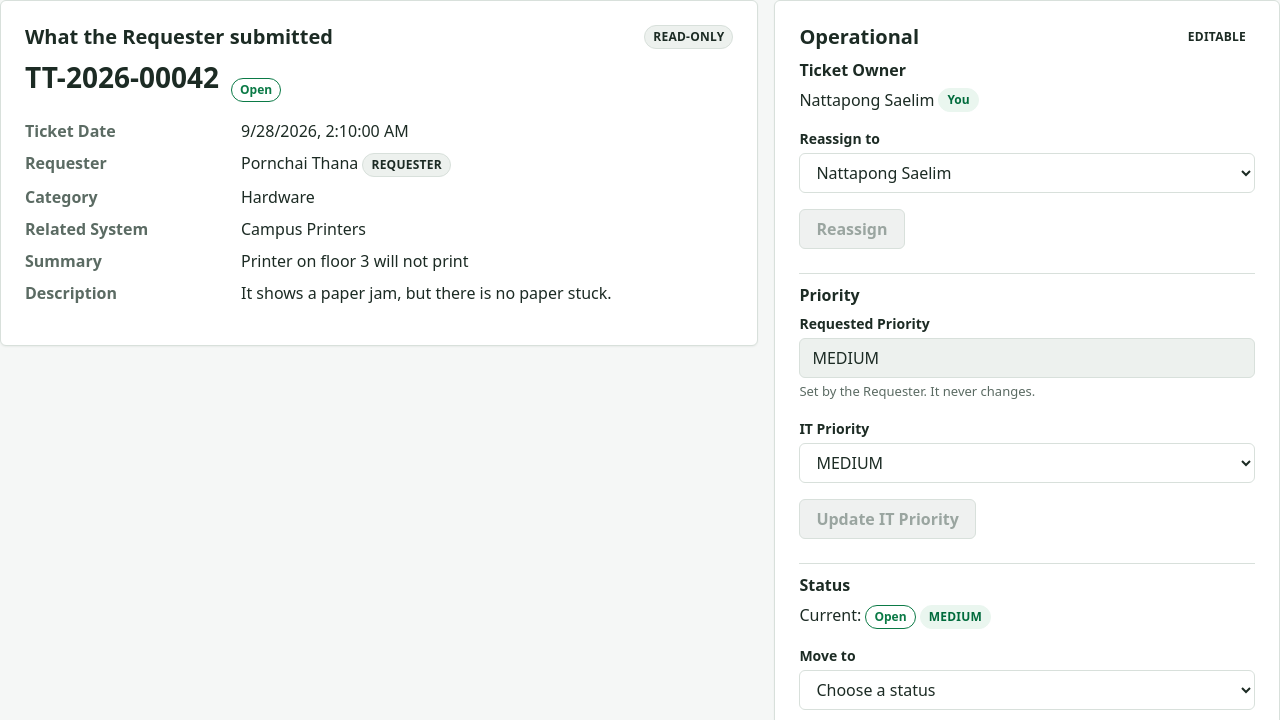
Test: reassignment (FR-32) › reassigns through the picker of active IT Staff and Administrators, sending the owner it showed
Expected: the heading "TT-2026-00042" is shown, [25,61,219,95]
Select "Siriporn Kaewmanee" in the dropdown labelled "Reassign to" at [1027, 173], box [799,153,1255,193]
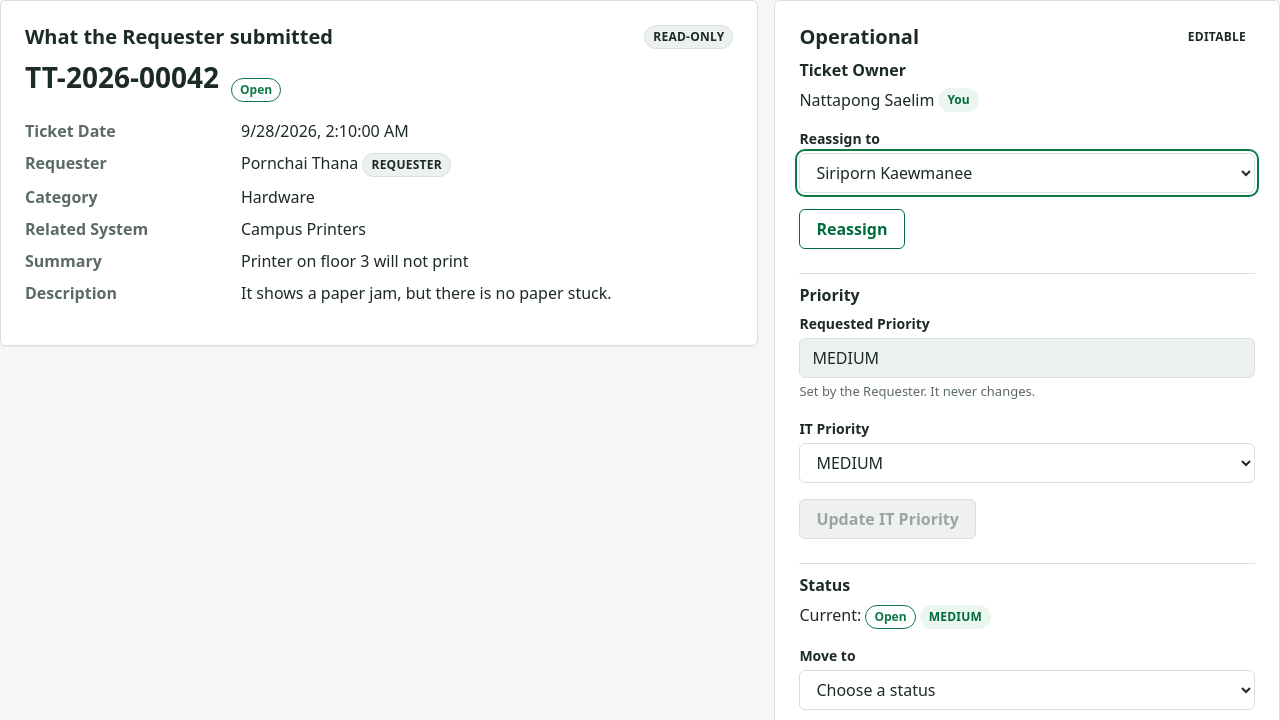
Click the button "Reassign" at [852, 229], box [799,209,904,249]
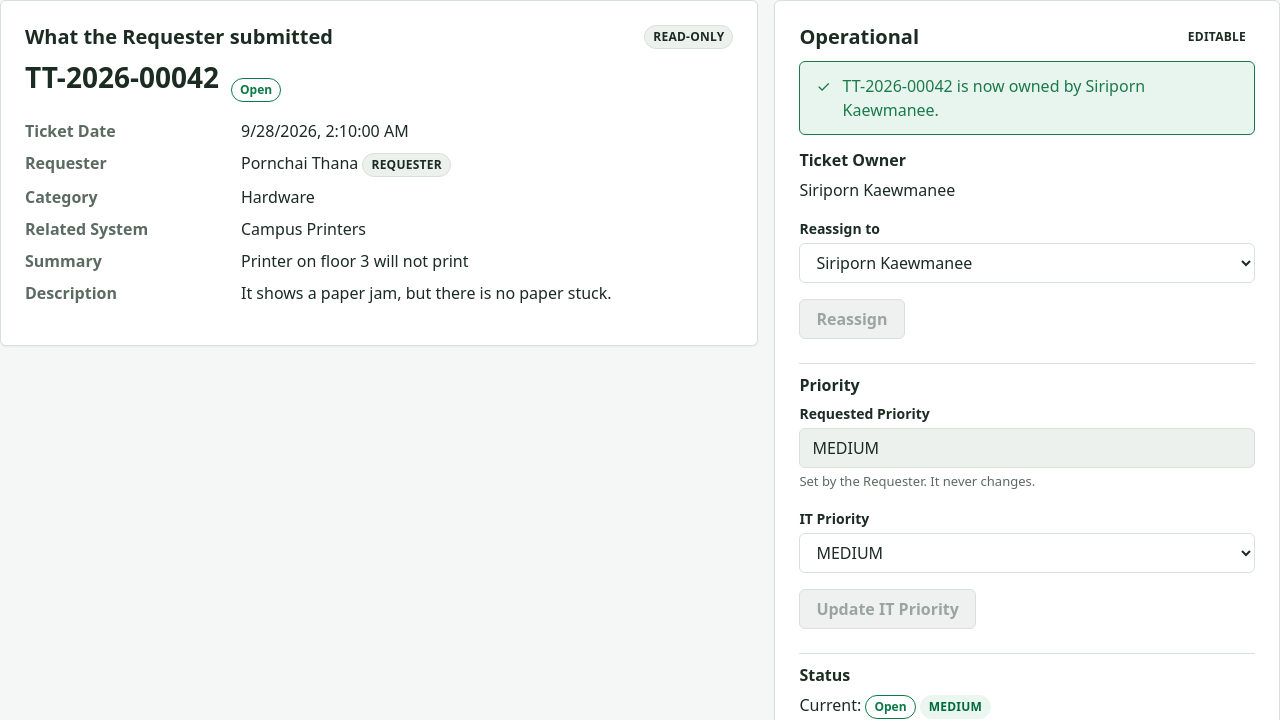
Expected: the text "TT-2026-00042 is now owned by Siriporn Kaewmanee." is shown, [842,75,1145,121]
